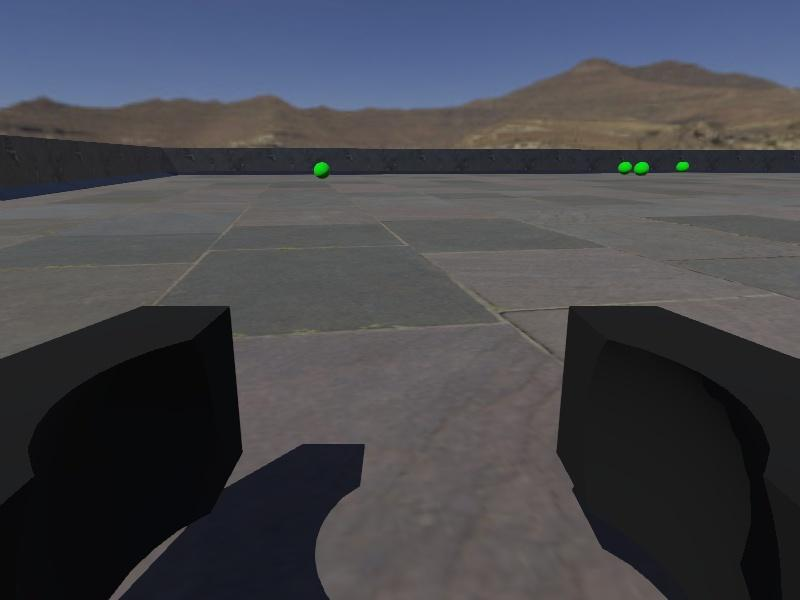green ball: (313, 161, 331, 179), (634, 159, 651, 176), (617, 158, 632, 176), (676, 159, 691, 175)
